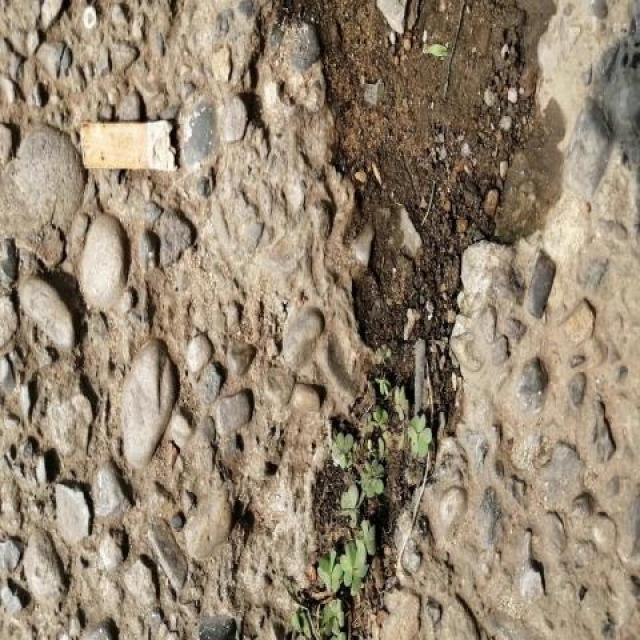non-organic waste: (75, 112, 188, 173)
